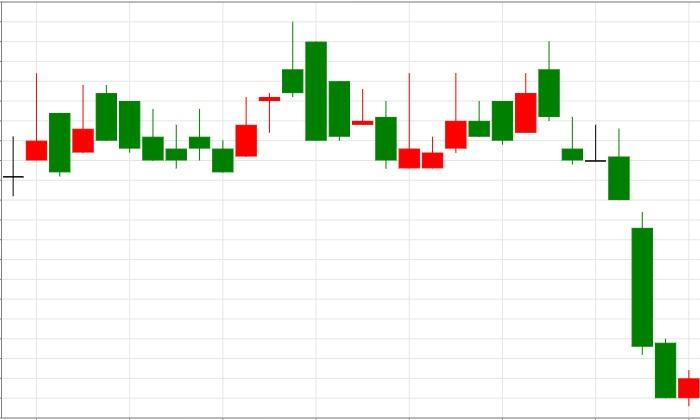inverse_hammer_rise: (282, 21, 419, 169)
